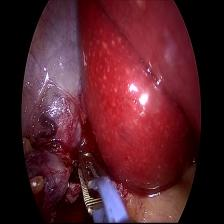Bipolar: (76, 148, 131, 224)
